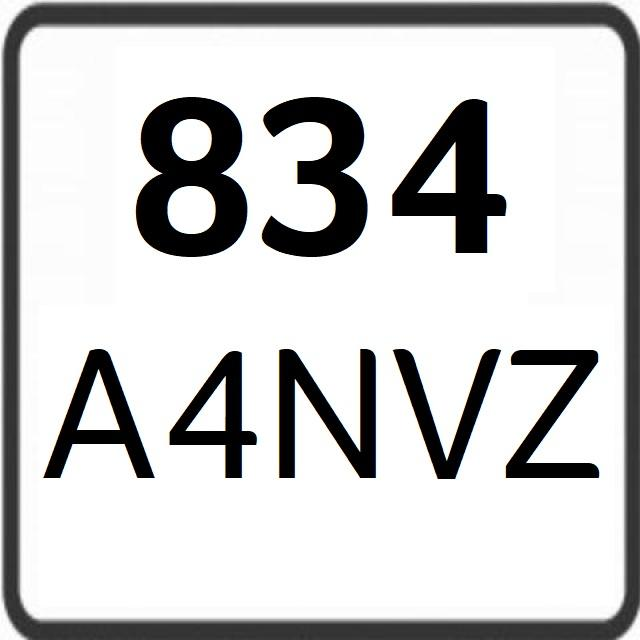3: (255, 80, 373, 265)
4: (388, 63, 509, 264), (165, 334, 252, 494)
8: (132, 77, 253, 264)
A: (40, 316, 157, 502)
N: (274, 334, 379, 496)
V: (392, 334, 503, 493)
Z: (506, 328, 608, 491)
